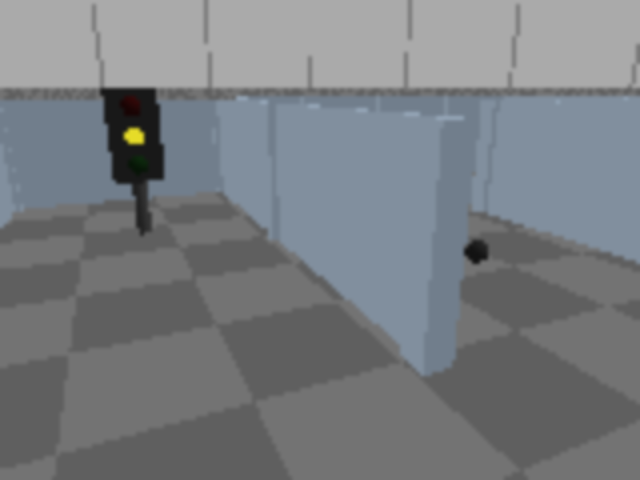puck: (460, 237, 495, 267)
traffic_light: (100, 80, 172, 241)
